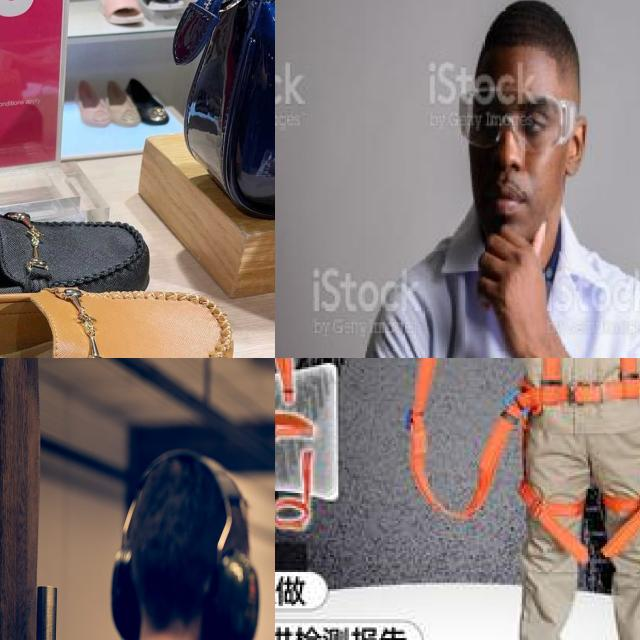Ear-protection: (106, 449, 260, 640)
Harness: (502, 358, 640, 580)
No_Ear-Protection: (566, 115, 588, 180)
Sandals: (0, 187, 176, 331), (0, 263, 241, 358)
face_nomask: (462, 98, 562, 224)
glasses: (456, 86, 578, 154)
hand_noglove: (475, 215, 551, 340)
head_nohelmet: (471, 0, 579, 75)
person: (353, 0, 640, 358), (34, 436, 275, 640)
